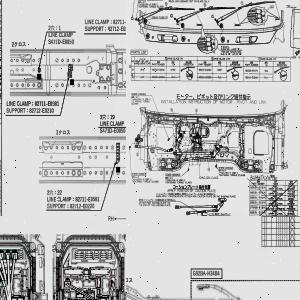PartNumber: (69, 202, 95, 210), (192, 270, 220, 277), (48, 38, 74, 45), (35, 100, 59, 107), (74, 196, 100, 202), (29, 108, 54, 114), (100, 128, 125, 134), (107, 25, 126, 31), (112, 18, 126, 24), (198, 68, 212, 72), (152, 68, 165, 72), (131, 92, 144, 96), (250, 211, 266, 214), (250, 206, 266, 209), (250, 201, 266, 204), (250, 196, 266, 199), (250, 191, 266, 194), (250, 186, 266, 189), (151, 16, 164, 19), (245, 76, 258, 79), (165, 173, 178, 176), (132, 172, 144, 175), (245, 70, 258, 72)
